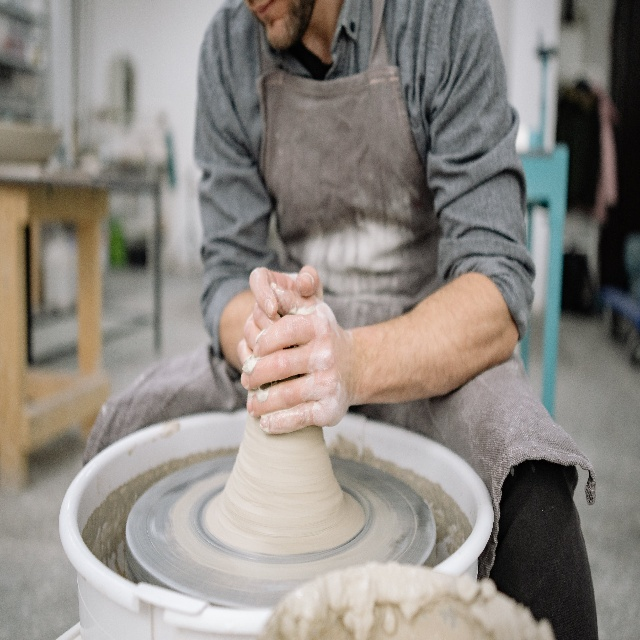Sin_guantes: (240, 282, 352, 435), (236, 259, 323, 366)
